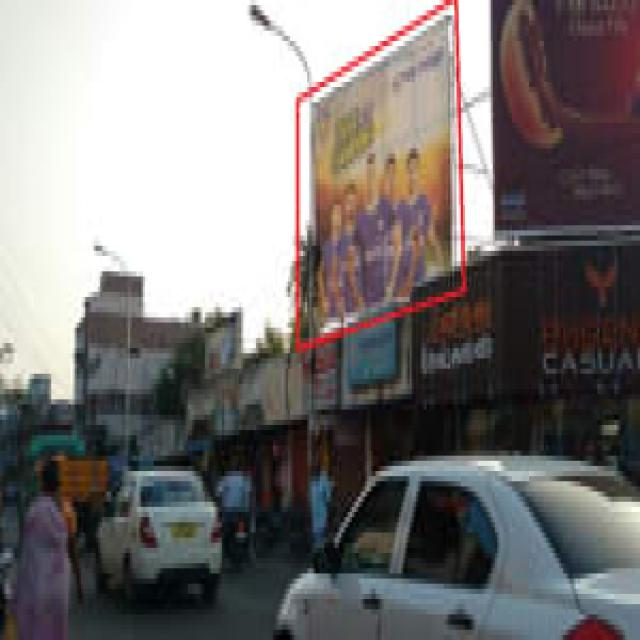Werbetafel frei: (308, 19, 449, 291), (489, 0, 640, 227)
